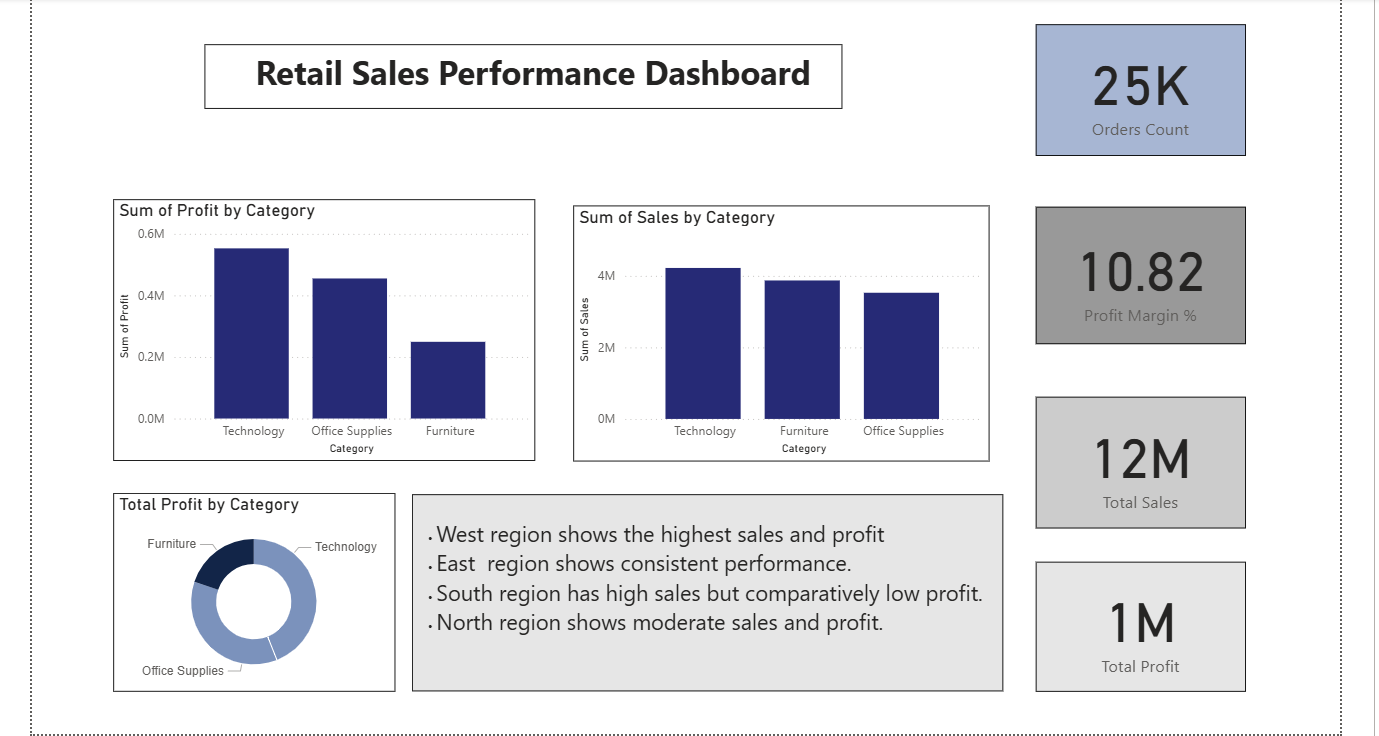

The page's visual inventory and layout, read from the dashboard file:
{"tool":"powerbi","page":{"name":"Page 1","canvas":[1280,720],"ordinal":0},"visuals":[{"type":"clusteredColumnChart","fields":{"Category":["superstore.Category"],"Y":["Sum(superstore.Sales)"]},"box":[530,202.9,407.1,250],"z":0},{"type":"clusteredColumnChart","fields":{"Category":["superstore.Category"],"Y":["Sum(superstore.Profit)"]},"box":[80,197.1,412.9,255.7],"z":1000},{"type":"card","fields":{"Values":["Sales_fact.Total Profit"]},"box":[981.4,551.4,205.7,127.1],"z":2000},{"type":"card","fields":{"Values":["Sales_fact.Total Sales"]},"box":[981.4,390,205.7,128.6],"z":3000},{"type":"card","fields":{"Values":["Sales_fact.Profit Margin %"]},"box":[981.4,204.3,205.7,134.3],"z":4000},{"type":"card","fields":{"Values":["Sales_fact.Orders Count"]},"box":[981.4,25.7,205.7,128.6],"z":5000},{"type":"textbox","box":[168.6,45.7,624.3,62.9],"z":6000},{"type":"textbox","box":[371.4,485.7,578.6,192.9],"z":7000},{"type":"donutChart","fields":{"Category":["Sales_fact.Category"],"Y":["Sales_fact.Total Profit"]},"box":[80,484.3,275.7,194.3],"z":8000}]}

Visuals, with their boxes on the page's 1280x720 design canvas (x1, y1, x2, y2). These are canvas units, not pixel positions in the 1379x736 screenshot, which may show the page scaled, cropped or inside an application window:
clusteredColumnChart - superstore.Category x Sum(superstore.Sales): <bbox>530, 203, 937, 453</bbox>
clusteredColumnChart - superstore.Category x Sum(superstore.Profit): <bbox>80, 197, 493, 453</bbox>
card - Sales_fact.Total Profit: <bbox>981, 551, 1187, 678</bbox>
card - Sales_fact.Total Sales: <bbox>981, 390, 1187, 519</bbox>
card - Sales_fact.Profit Margin %: <bbox>981, 204, 1187, 339</bbox>
card - Sales_fact.Orders Count: <bbox>981, 26, 1187, 154</bbox>
textbox: <bbox>169, 46, 793, 109</bbox>
textbox: <bbox>371, 486, 950, 679</bbox>
donutChart - Sales_fact.Category x Sales_fact.Total Profit: <bbox>80, 484, 356, 679</bbox>
